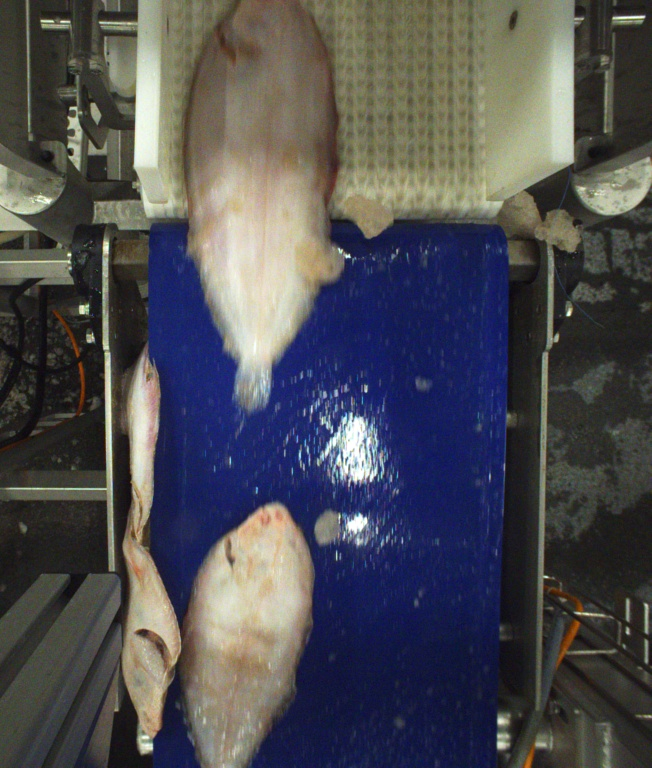SOL: (176, 501, 312, 768)
